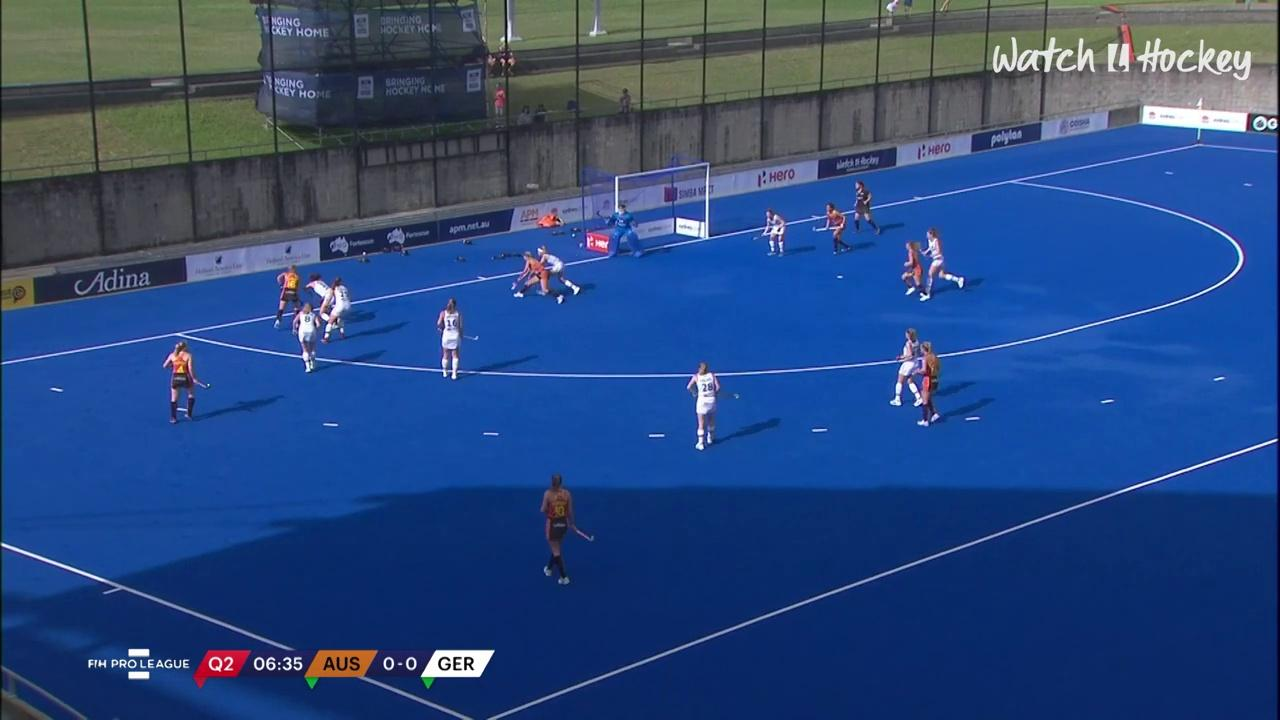ball: (470, 334, 482, 345)
